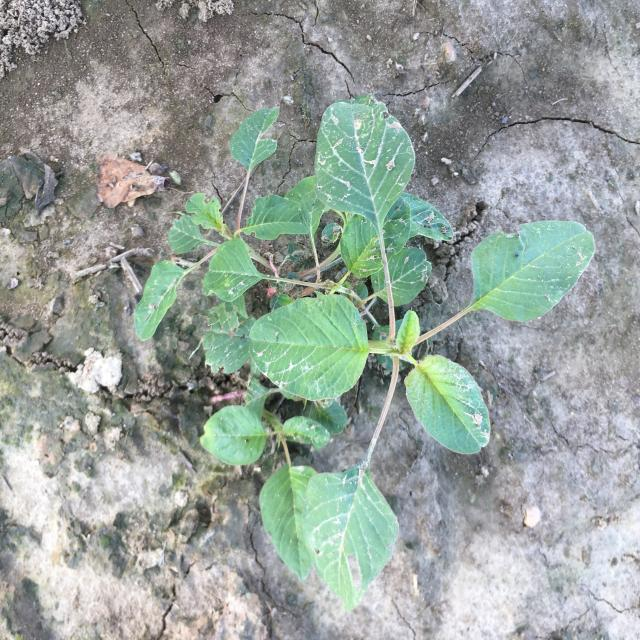PalmerAmaranth: (134, 94, 595, 614)
